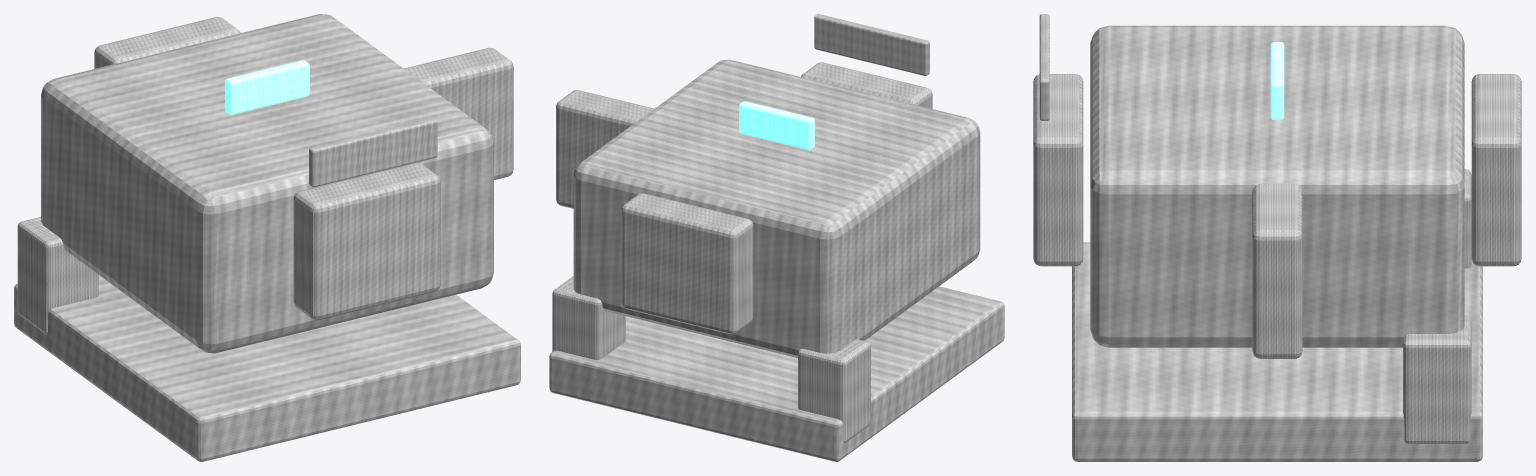
The model's file is conveyor_merger_variant_d.glb.
The picture shows the model from 3 angles, left to right: view 1: azimuth 30°, elevation 25°; view 2: azimuth 150°, elevation 25°; view 3: azimuth 270°, elevation 25°; orthographic projection. The views are drawn at different scales.
Visible parts, largest first — view 1: Junction body.003, Foundation.003, Conveyor port.010, Conveyor port, Service foot.006, Asset ID plate, Logic indicator.003, Conveyor port.011; view 2: Junction body.003, Foundation.003, Conveyor port.011, Service foot.006, Conveyor port, Asset ID plate, Service foot.007, Logic indicator.003, Conveyor port.010; view 3: Junction body.003, Foundation.003, Conveyor port.011, Conveyor port.010, Conveyor port, Service foot.007, Asset ID plate, Logic indicator.003, Service foot.006.
Part boxes in pixels (left/top/right/bottom): Junction body.003: left=41, top=14, right=493, bottom=353; Foundation.003: left=14, top=275, right=520, bottom=461; Conveyor port.010: left=293, top=163, right=440, bottom=320; Conveyor port: left=404, top=47, right=513, bottom=179; Service foot.006: left=17, top=217, right=98, bottom=334; Asset ID plate: left=309, top=118, right=437, bottom=187; Logic indicator.003: left=225, top=60, right=309, bottom=114; Conveyor port.011: left=94, top=17, right=240, bottom=68; Junction body.003: left=573, top=59, right=980, bottom=357; Foundation.003: left=549, top=286, right=1004, bottom=461; Conveyor port.011: left=621, top=193, right=753, bottom=334; Service foot.006: left=798, top=339, right=870, bottom=443; Conveyor port: left=556, top=90, right=653, bottom=208; Asset ID plate: left=814, top=14, right=929, bottom=75; Service foot.007: left=552, top=276, right=625, bottom=360; Logic indicator.003: left=739, top=101, right=814, bottom=150; Conveyor port.010: left=801, top=62, right=932, bottom=108; Junction body.003: left=1090, top=25, right=1464, bottom=347; Foundation.003: left=1072, top=242, right=1482, bottom=461; Conveyor port.011: left=1471, top=74, right=1521, bottom=266; Conveyor port.010: left=1033, top=74, right=1083, bottom=266; Conveyor port: left=1252, top=183, right=1302, bottom=358; Service foot.007: left=1403, top=315, right=1471, bottom=443; Asset ID plate: left=1039, top=14, right=1049, bottom=120; Logic indicator.003: left=1270, top=42, right=1284, bottom=119; Service foot.006: left=1464, top=169, right=1471, bottom=268.
Size of what is drawn, in the model's own units: 2.23 by 1.6 by 2.14.
Materials: 6 (6 with a texture image).
